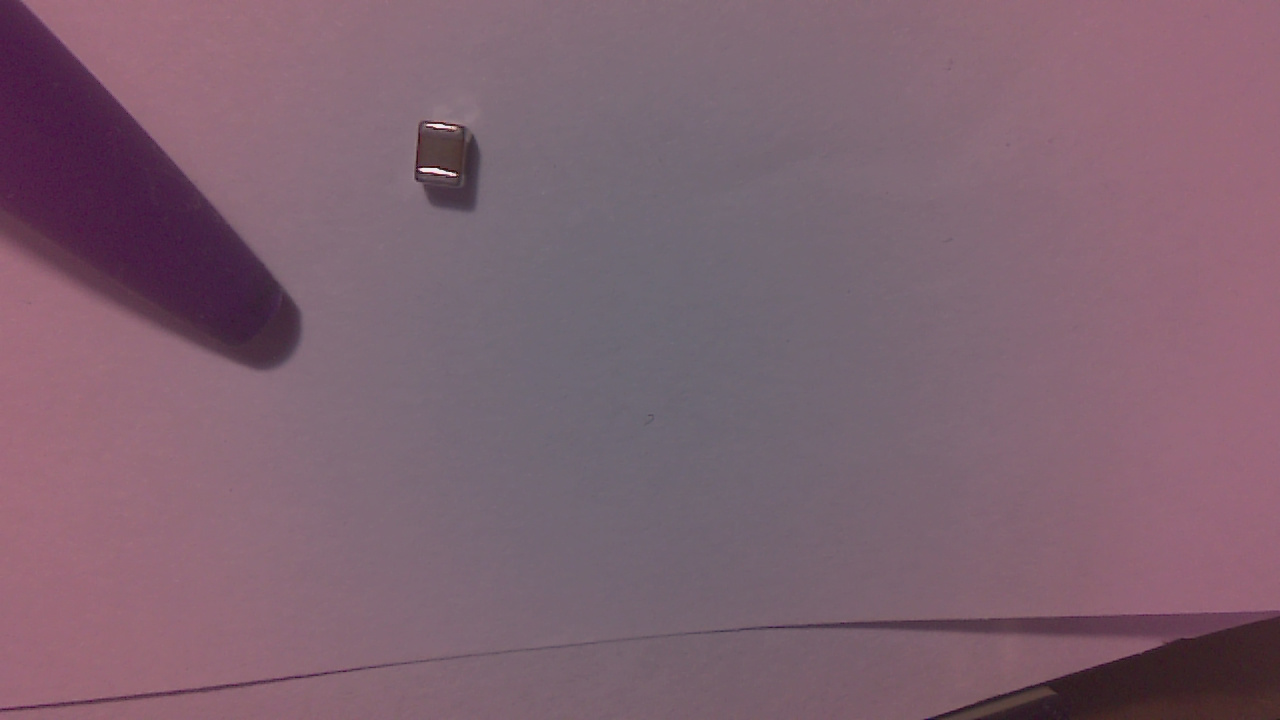Condensator: (418, 123, 481, 200)
